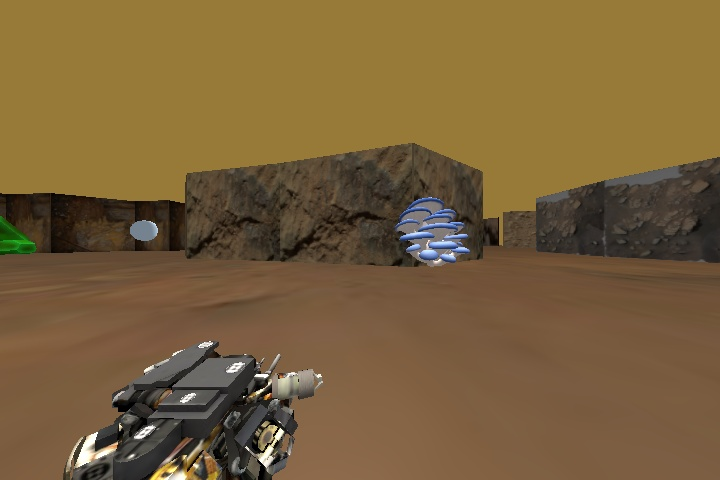gem: (0, 215, 38, 255)
mushroom: (398, 197, 471, 265)
sphere: (129, 219, 156, 243)
